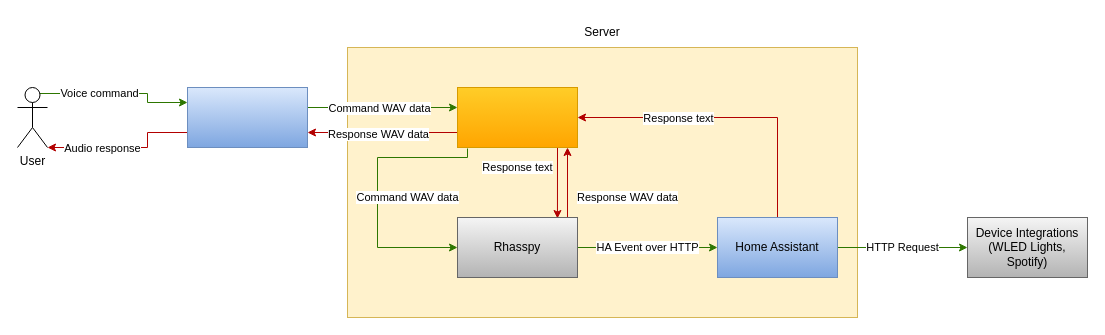
This 1105x335 diagram has some shape labels left out. The centre of each missing label's shape, as x and y in pixels:
"Matrix Voice" belongs at pixel 247 117.
"MQTT Broker" belongs at pixel 517 117.
